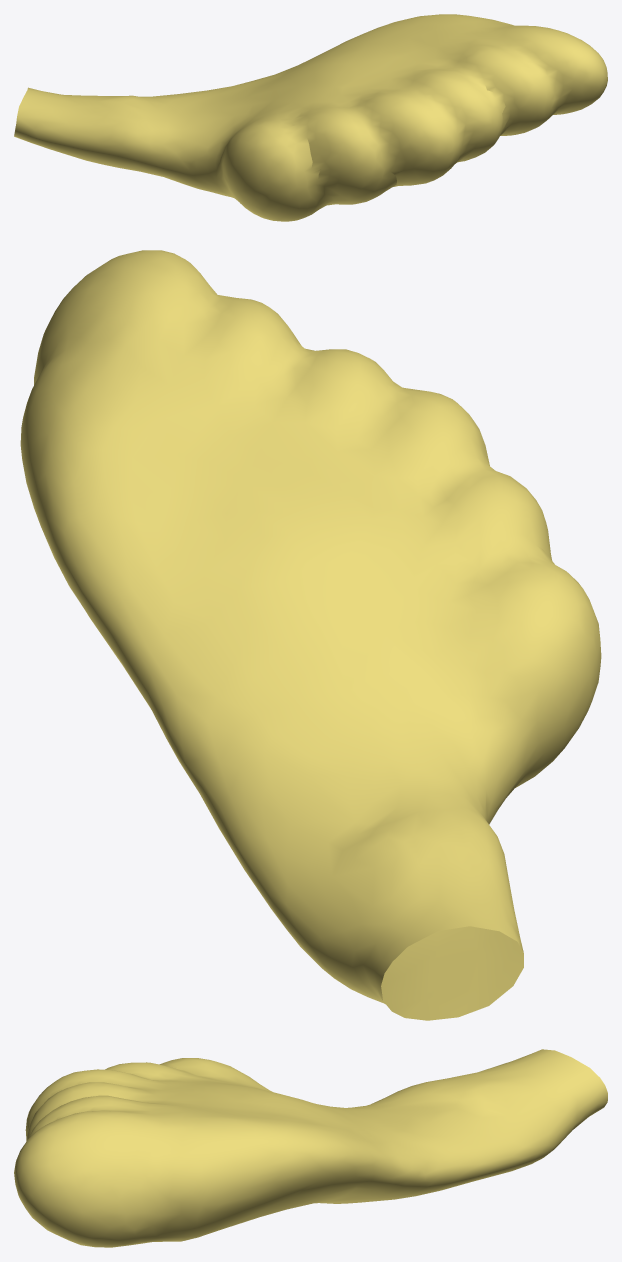
The model's file is flocculus-l.glb.
3 renders of one model, top to bottom at view 1: azimuth 30°, elevation 25°; view 2: azimuth 150°, elevation 25°; view 3: azimuth 270°, elevation 25°, orthographic. The views are drawn at different scales.
Parts seen in each view (by area): view 1: Flocculus.l; view 2: Flocculus.l; view 3: Flocculus.l.
Part boxes in pixels (x1,y1,x2,y2): Flocculus.l: (14, 14, 607, 221); Flocculus.l: (20, 250, 601, 1020); Flocculus.l: (14, 1049, 607, 1247).
Size of the model in its own units: 0.0184 by 0.00746 by 0.0177.
